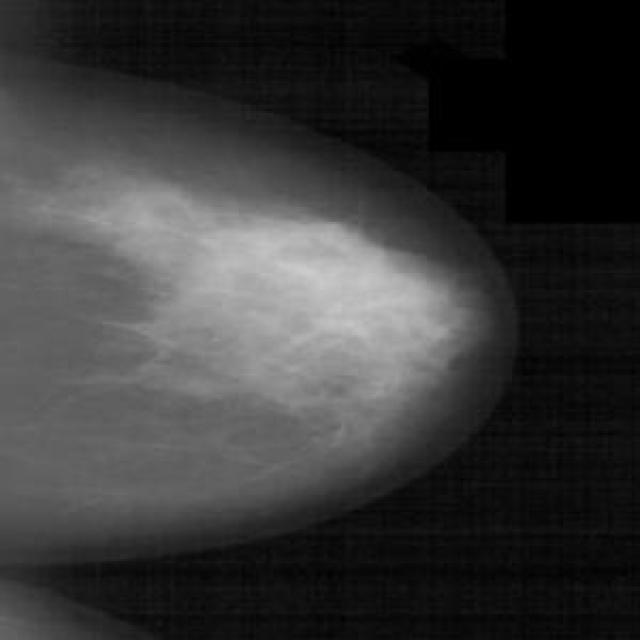tumor: (162, 216, 461, 413)
